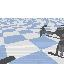drone: (40, 25, 64, 58)
